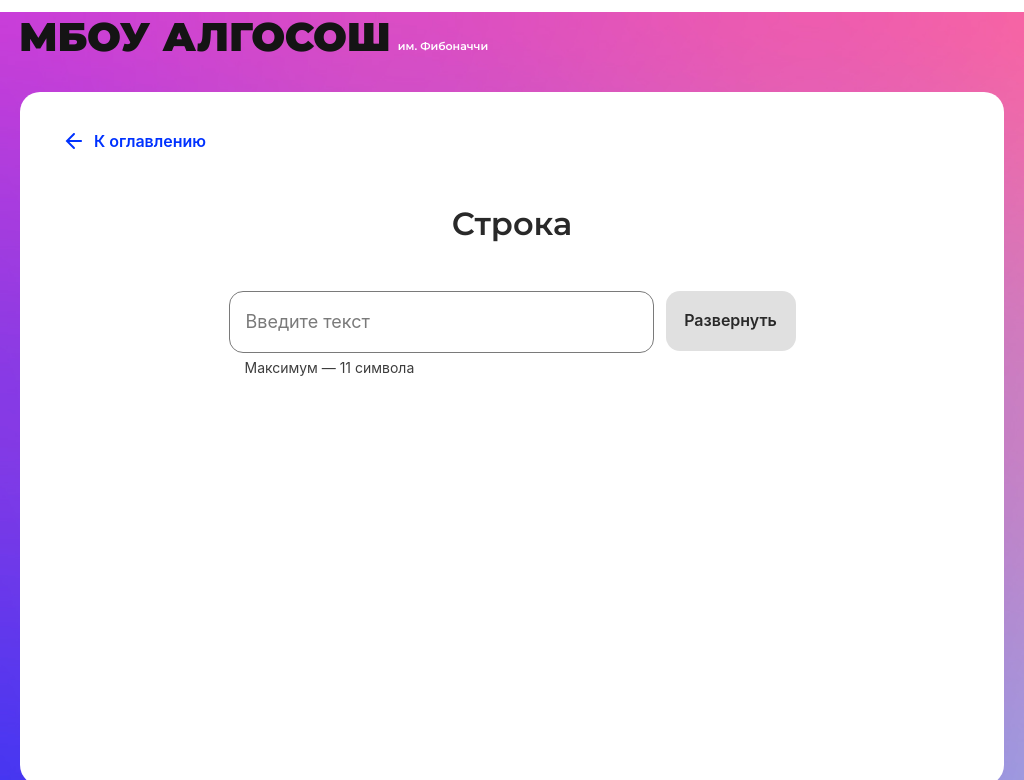
reverse string page test › checks whether button disabled or not when input is void
Expected: the button "Развернуть" is disabled, x1=666 y1=291 x2=796 y2=351
In the field with placeholder "Введите текст": (442, 322) x1=229 y1=291 x2=654 y2=353, type "ABCD"
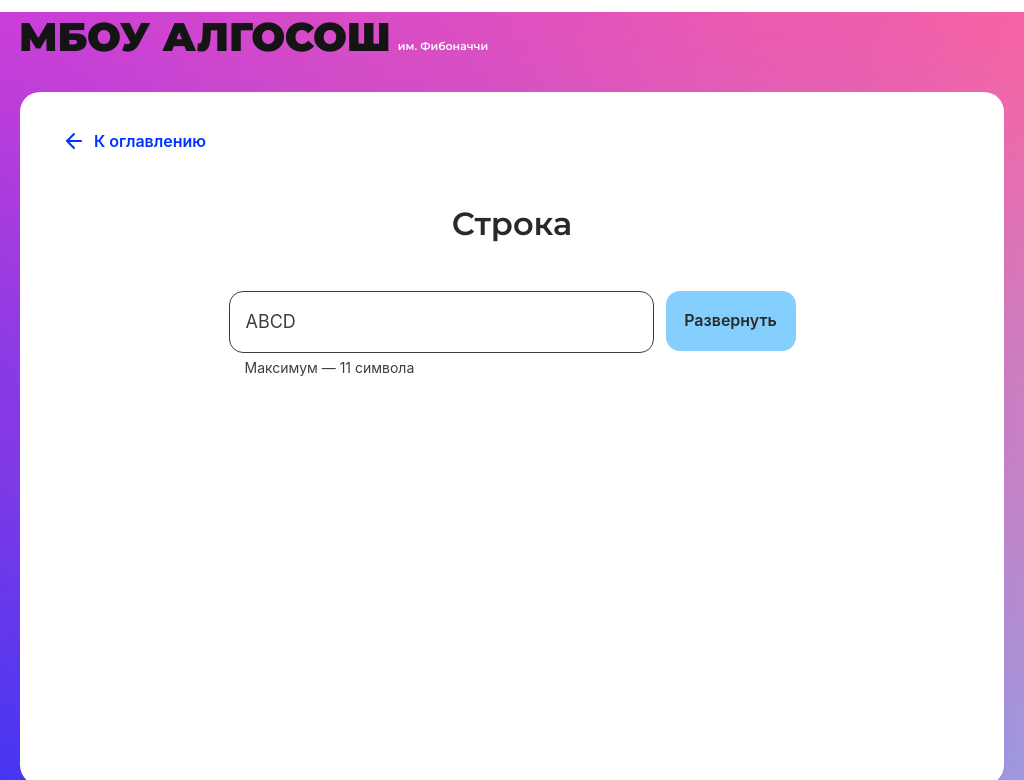
Expected: the text "Развернуть" is enabled
Clear the field: (442, 322) x1=229 y1=291 x2=654 y2=353
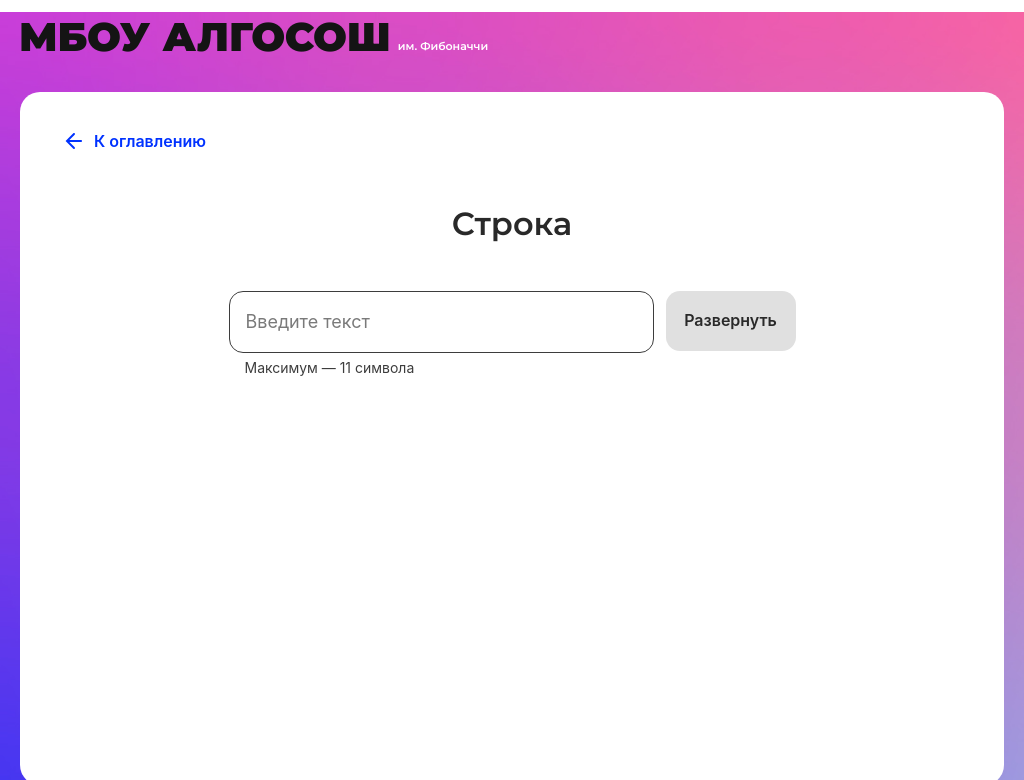
Expected: the button "Развернуть" is disabled, x1=666 y1=291 x2=796 y2=351
